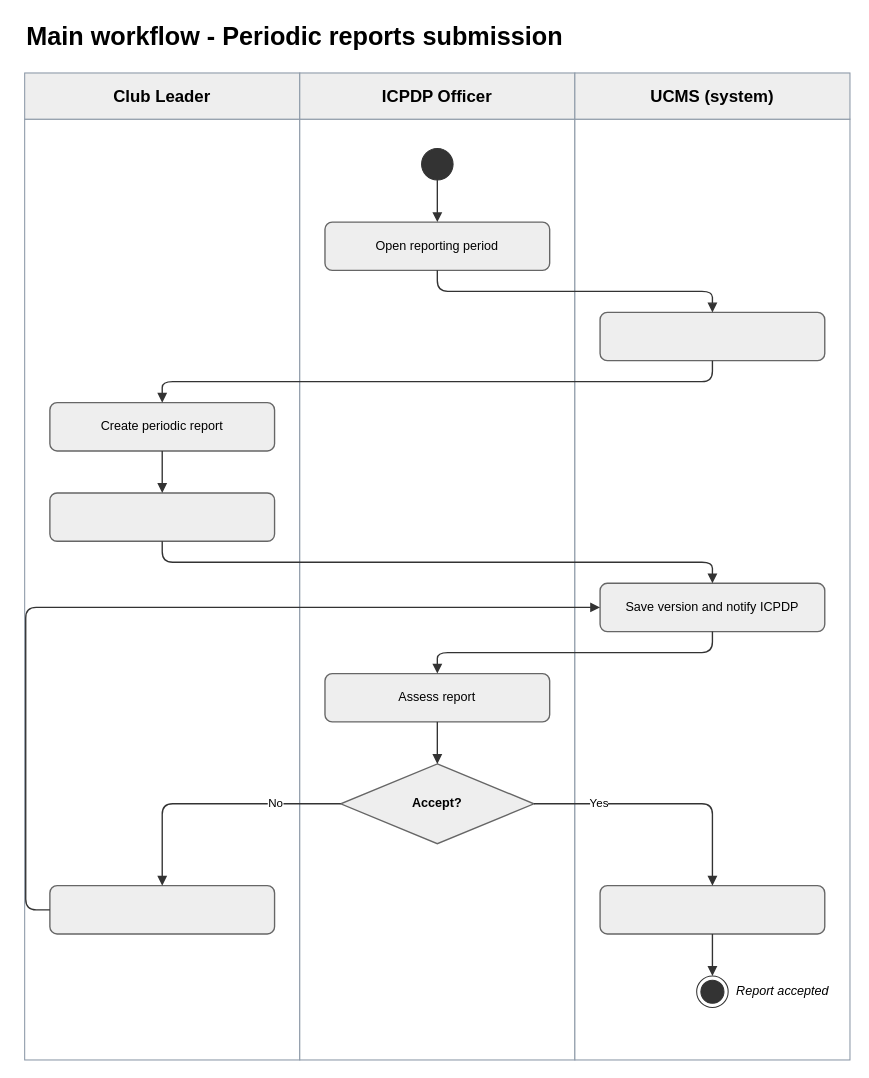
The diagram is 869 pixels wide and 1078 high, and some of its shapes have lost their labels. Here are the shapes that lost their labels. From the top down, the box of each, then its label:
(599, 311, 825, 361): Notify club boards
(49, 492, 275, 541): Fill in and submit report
(49, 885, 275, 934): Revise and resubmit
(599, 885, 825, 934): Mark Accepted and notify club
